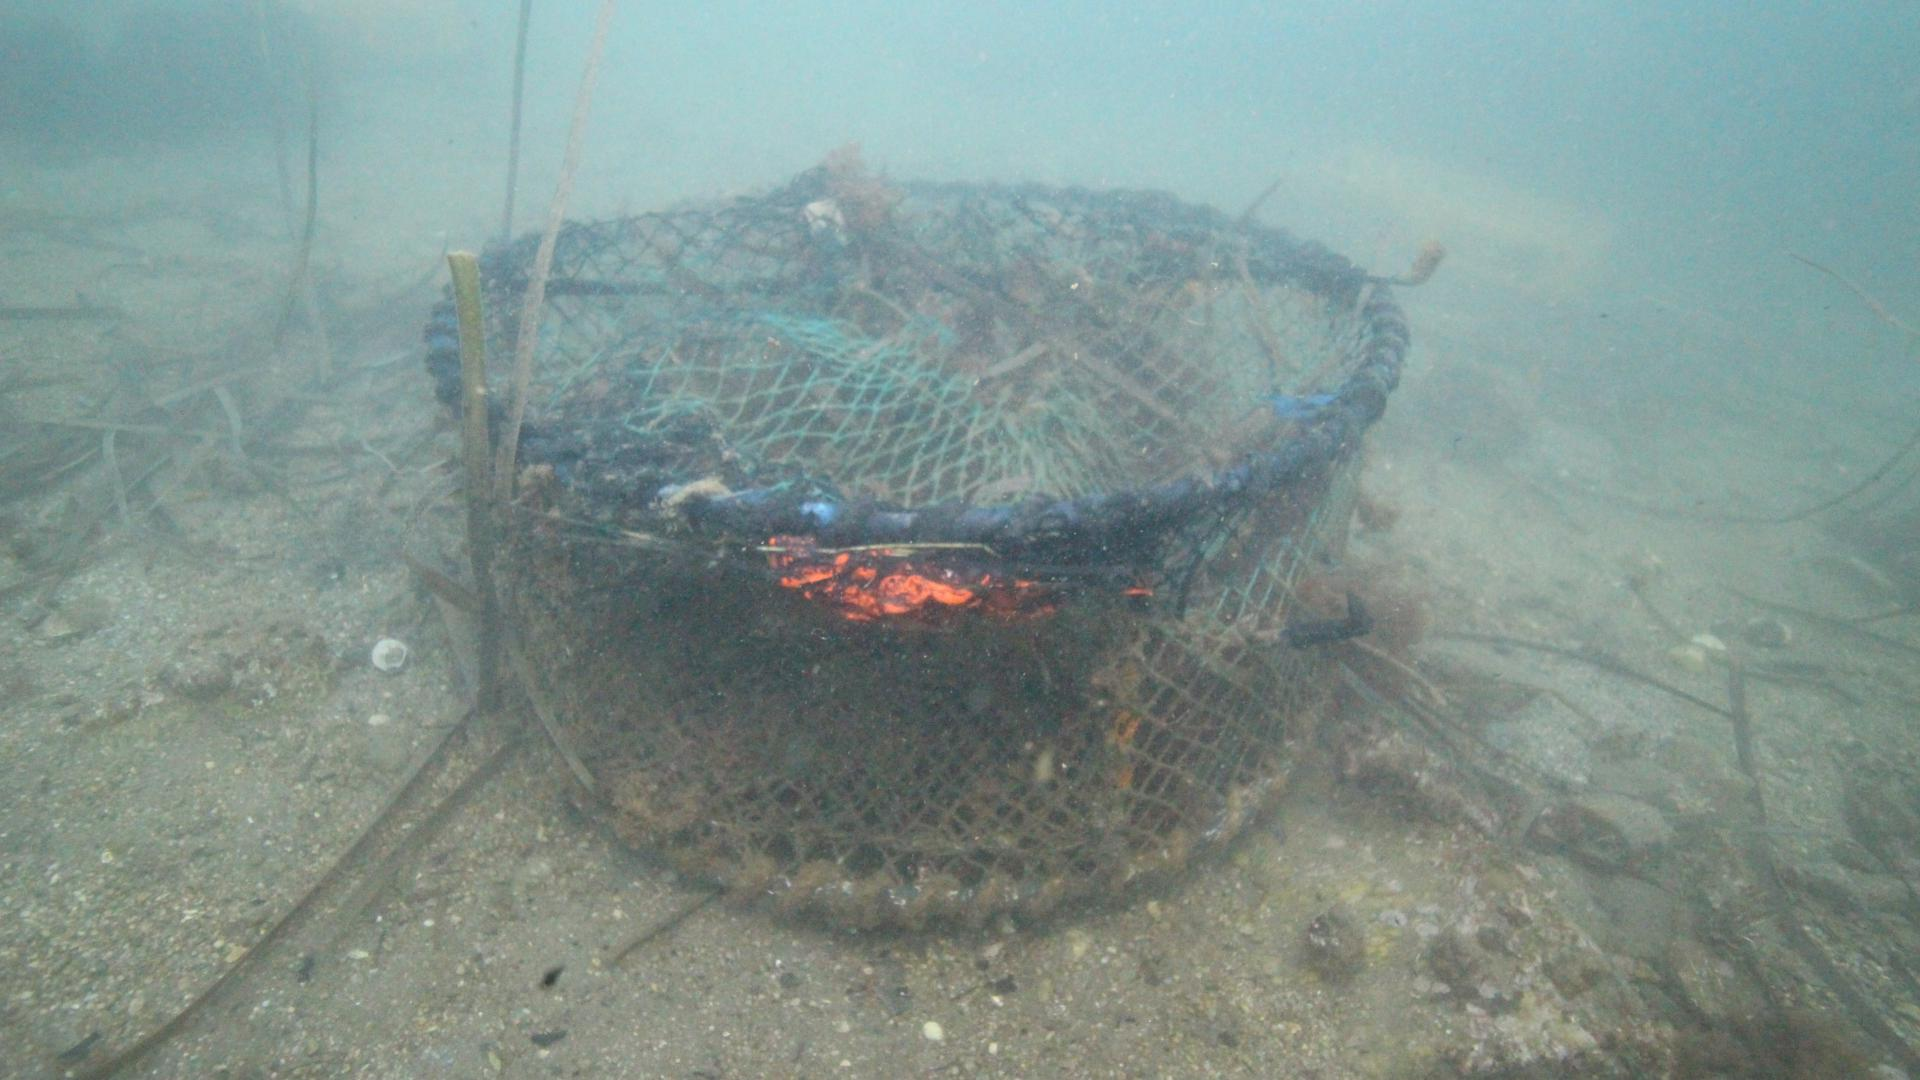circular fish trap: (423, 161, 1408, 928)
